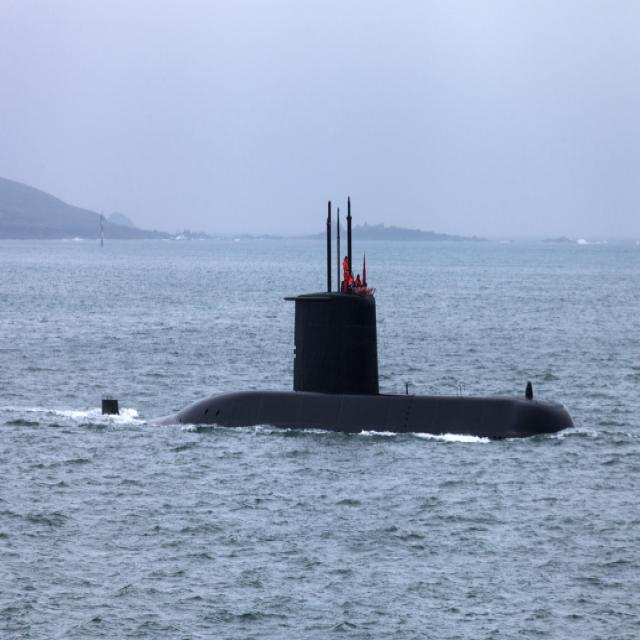submarine: (100, 190, 577, 437)
